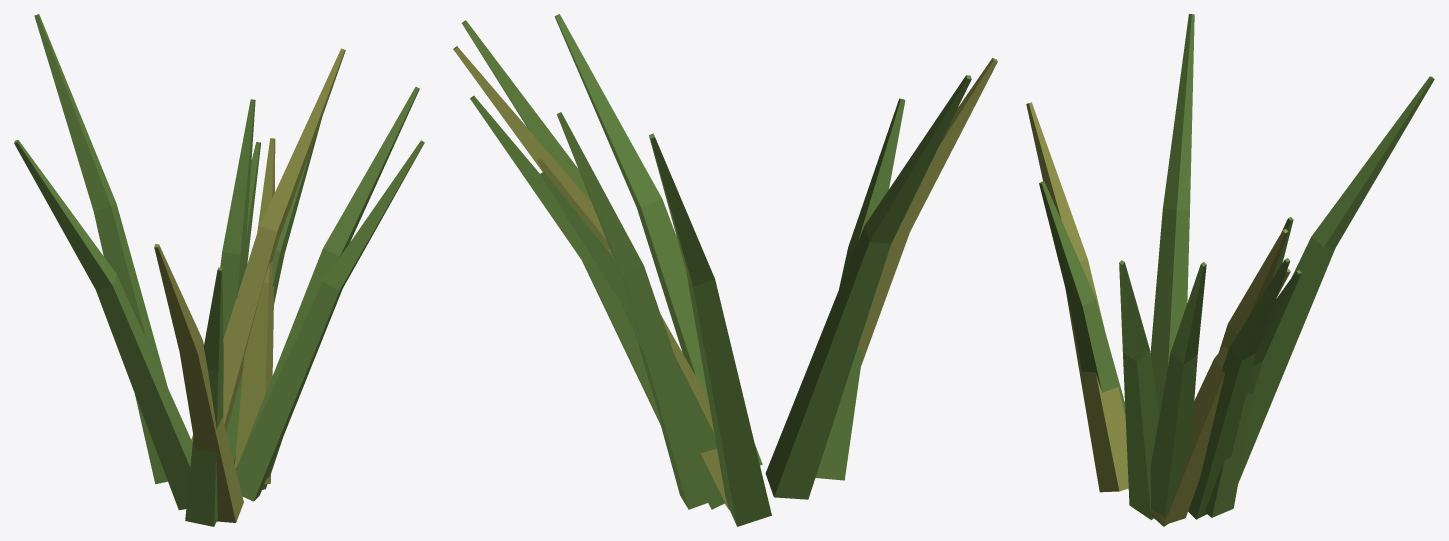
3 views of the same model, side by side, from view 1: azimuth 30°, elevation 25°; view 2: azimuth 150°, elevation 25°; view 3: azimuth 270°, elevation 25° (orthographic). The views are drawn at different scales.
Visible parts, largest first — view 1: GrassTuft; view 2: GrassTuft; view 3: GrassTuft.
Part boxes in pixels (bbox=[...]): GrassTuft: bbox=[14, 14, 424, 526]; GrassTuft: bbox=[453, 14, 997, 526]; GrassTuft: bbox=[1026, 14, 1434, 526].
Bounding box in the file's own units: 0.2453 × 0.2285 × 0.2096.
